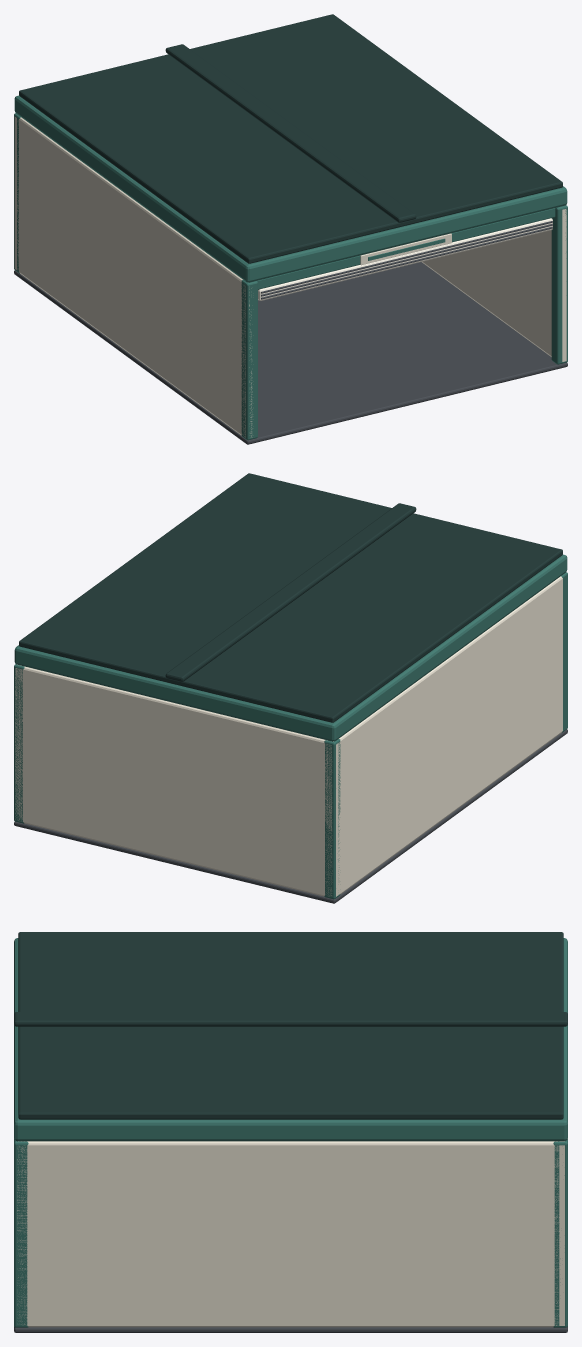
File: car_garage.glb
3 views of the same model, one above another, from view 1: azimuth 30°, elevation 25°; view 2: azimuth 150°, elevation 25°; view 3: azimuth 270°, elevation 25° (orthographic). The views are drawn at different scales.
Visible parts, largest first — view 1: Garage roof cap, Garage side wall, Garage floor slab, Garage roof slab, Garage side wall.001, Garage ridge cap, Garage corner post, Garage door panel, Garage corner post.002, Garage door header, Garage door slat.002, Garage door slat (+2 smaller); view 2: Garage roof cap, Garage back wall, Garage side wall, Garage roof slab, Garage ridge cap, Garage floor slab, Garage corner post.001, Garage corner post.003, Garage corner post; view 3: Garage side wall.001, Garage roof cap, Garage roof slab, Garage ridge cap, Garage floor slab, Garage corner post.002, Garage corner post.003, Garage back wall.
Part boxes in pixels (<box>): Garage roof cap: <box>19,14,562,263</box>; Garage side wall: <box>17,117,252,437</box>; Garage floor slab: <box>14,262,567,444</box>; Garage roof slab: <box>14,95,567,282</box>; Garage side wall.001: <box>422,209,566,361</box>; Garage ridge cap: <box>165,44,416,222</box>; Garage corner post: <box>241,280,257,440</box>; Garage door panel: <box>258,218,552,300</box>; Garage corner post.002: <box>551,205,567,364</box>; Garage door header: <box>257,208,555,289</box>; Garage door slat.002: <box>261,221,552,293</box>; Garage door slat: <box>261,226,552,299</box>; Garage roof cap: <box>19,473,562,722</box>; Garage back wall: <box>15,664,338,896</box>; Garage side wall: <box>328,576,562,894</box>; Garage roof slab: <box>14,554,567,741</box>; Garage ridge cap: <box>165,503,416,681</box>; Garage floor slab: <box>14,729,567,903</box>; Garage corner post.001: <box>324,739,340,899</box>; Garage corner post.003: <box>14,664,24,823</box>; Garage corner post: <box>561,572,567,732</box>; Garage side wall.001: <box>17,1141,564,1327</box>; Garage roof cap: <box>18,932,563,1119</box>; Garage roof slab: <box>14,938,567,1141</box>; Garage ridge cap: <box>14,1012,567,1026</box>; Garage floor slab: <box>14,1326,567,1332</box>; Garage corner post.002: <box>14,1139,28,1327</box>; Garage corner post.003: <box>553,1139,567,1327</box>; Garage back wall: <box>559,1138,567,1325</box>.
Bounding box in the file's own units: 4.59 × 2.59 × 5.79.
